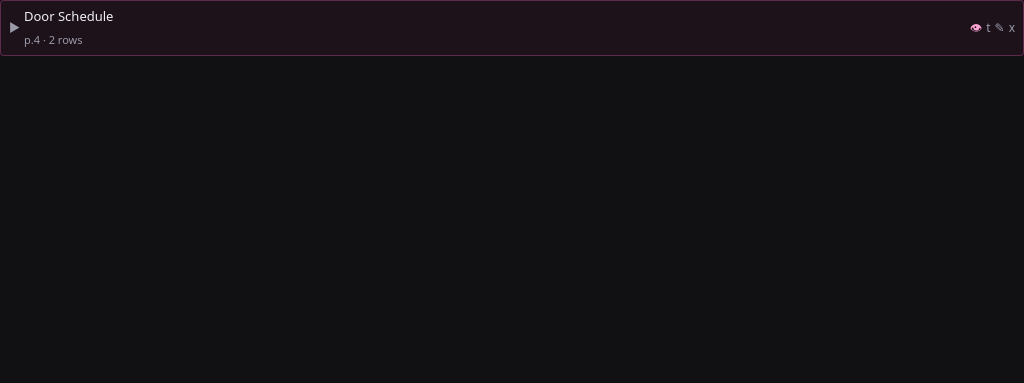
Test: ParsedTableItem C3 map transport › filters live duplicates, sends the exact body, creates a project tag, and closes on success
The image size is (1024, 383).
Click the button "▶".
click(14, 28)  # box [9,19,20,37]
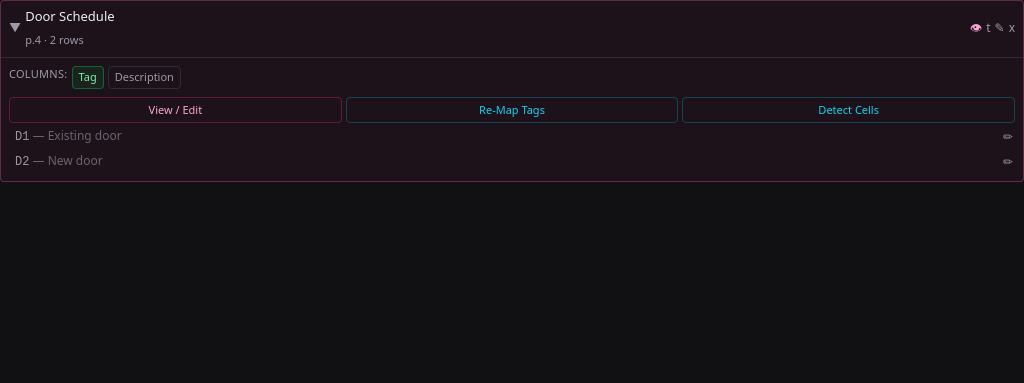
Click the button "Re-Map Tags".
click(512, 110)  # box [346,96,678,123]
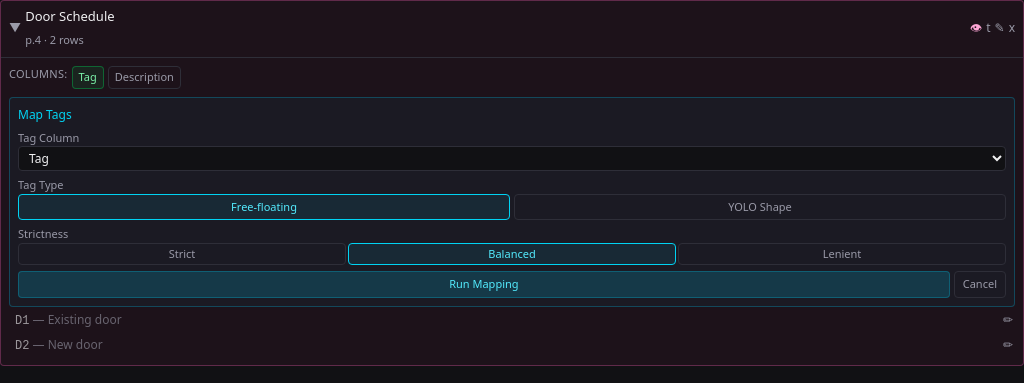
Click the button "Run Mapping".
click(484, 284)  # box [18,271,950,298]
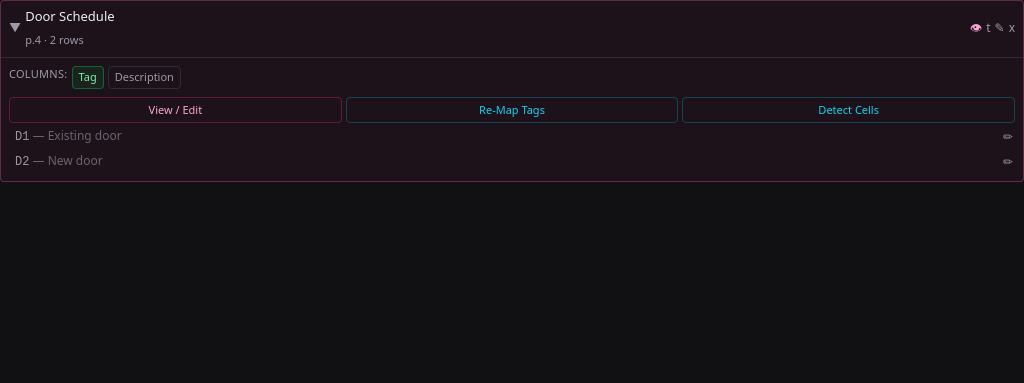
Expected: the button "Run Mapping" is gone
